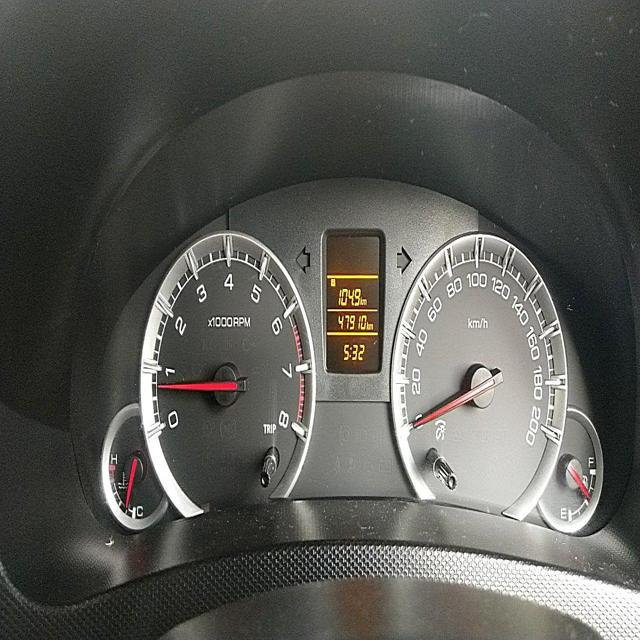odometer: (335, 311, 368, 333)
